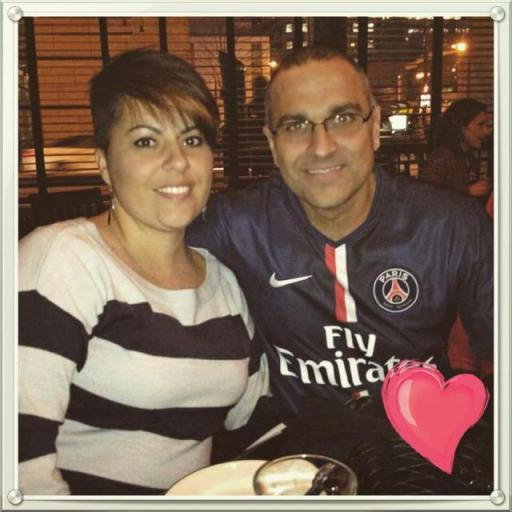Emirates: (271, 320, 400, 394)
